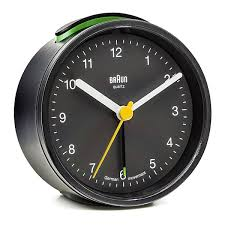alarm_clock: (12, 11, 211, 208), (18, 11, 211, 208)
